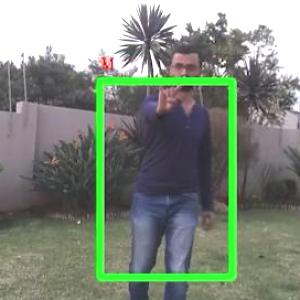takeoff-hand: (144, 66, 186, 117)
